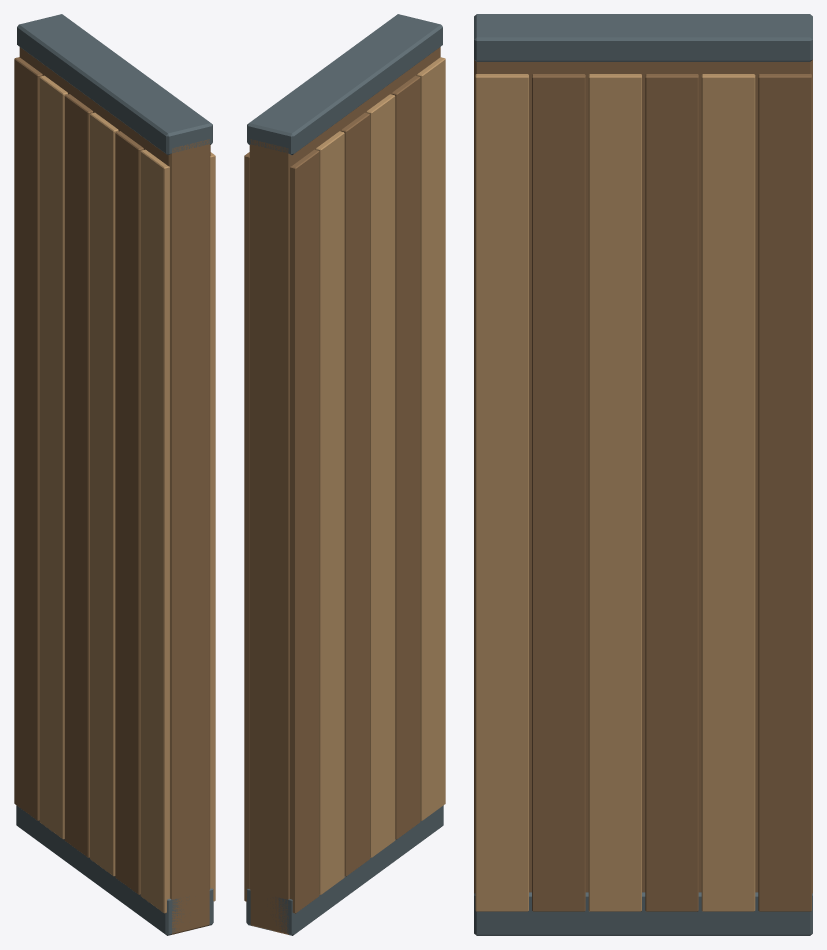
Rendered from wood-wall.glb.
3 renders of one model, left to right at view 1: azimuth 30°, elevation 25°; view 2: azimuth 150°, elevation 25°; view 3: azimuth 270°, elevation 25°, orthographic. The views are drawn at different scales.
Visible parts, largest first — view 1: Structural wall.004, Timber wall board.012, Top coping.004; view 2: Structural wall.004, Timber wall board.012, Top coping.004; view 3: Structural wall.004, Timber wall board.012, Top coping.004.
Boxes of the visible parts, bbox=[...] form: Structural wall.004: bbox=[14, 47, 210, 934]; Timber wall board.012: bbox=[39, 75, 215, 913]; Top coping.004: bbox=[16, 14, 213, 935]; Structural wall.004: bbox=[244, 47, 440, 934]; Timber wall board.012: bbox=[316, 57, 445, 894]; Top coping.004: bbox=[246, 14, 443, 935]; Structural wall.004: bbox=[474, 60, 812, 911]; Timber wall board.012: bbox=[475, 74, 755, 911]; Top coping.004: bbox=[474, 14, 812, 935].
Size of the model in its own units: 0.199 by 2.93 by 1.
